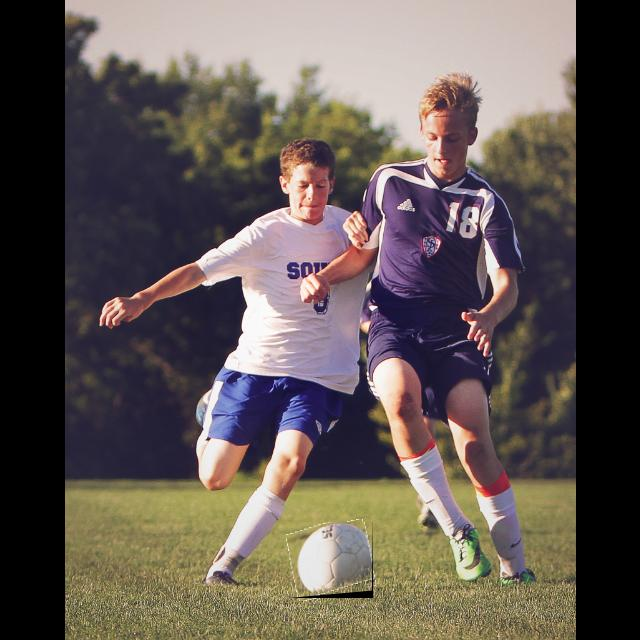Football: (289, 522, 373, 598)
